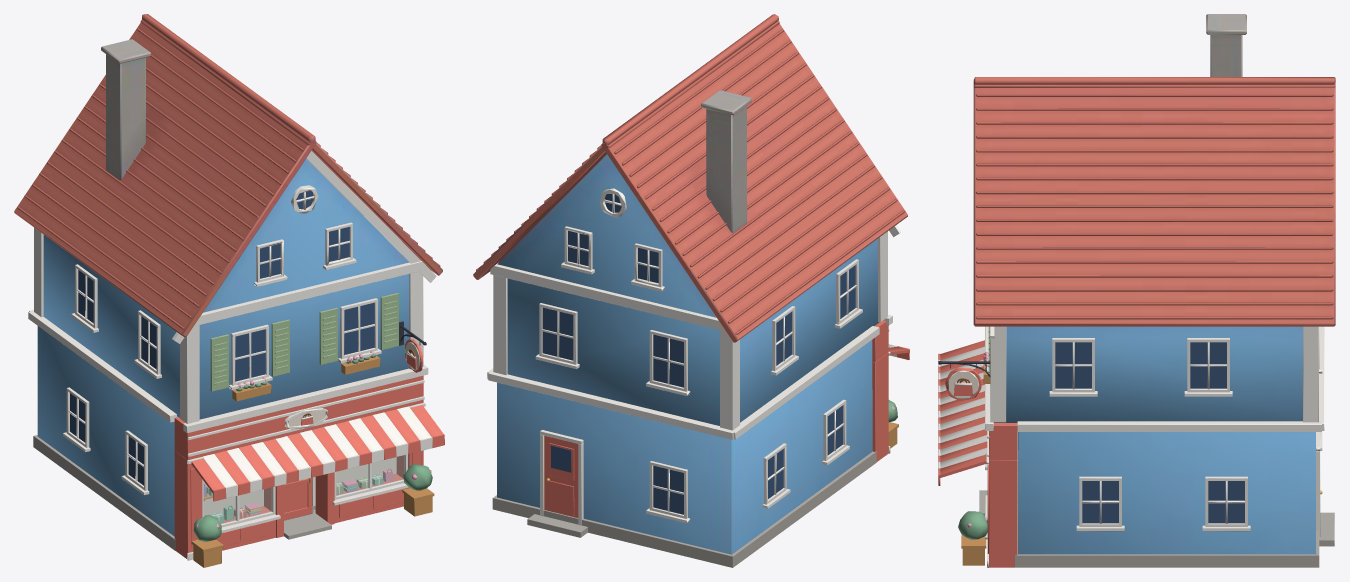
File: shop-front.glb
3 views of the same model, side by side, from view 1: azimuth 30°, elevation 25°; view 2: azimuth 150°, elevation 25°; view 3: azimuth 270°, elevation 25° (orthographic). The views are drawn at different scales.
Parts seen in each view (by area): view 1: shop-front_body, shop-front_details, shop-front_shop_glass; view 2: shop-front_body, shop-front_details; view 3: shop-front_body, shop-front_details.
Boxes of the visible parts, left/top/right/bottom form: shop-front_body: left=14, top=14, right=442, bottom=536; shop-front_details: left=28, top=151, right=444, bottom=567; shop-front_shop_glass: left=204, top=455, right=404, bottom=523; shop-front_body: left=473, top=14, right=907, bottom=554; shop-front_details: left=487, top=188, right=909, bottom=567; shop-front_body: left=973, top=14, right=1335, bottom=554; shop-front_details: left=938, top=326, right=1334, bottom=567.
Size of the model in its own units: 7.23 by 10.98 by 8.83.
21 materials, 1 textured.
